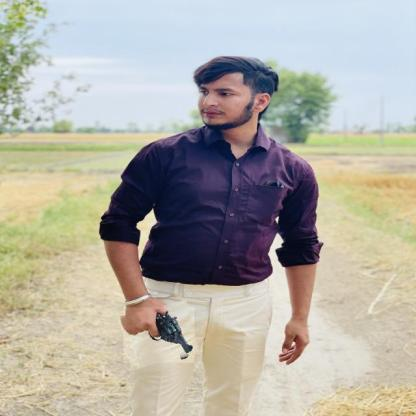handgun: (121, 304, 197, 366)
